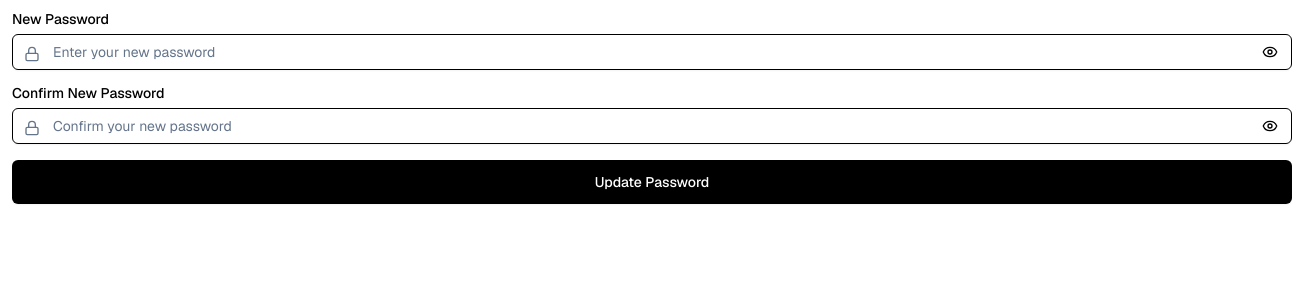
it: ResetPasswordForm › shows error when password update fails
Type "ValidPassword123" into the password field with placeholder "Enter your new password" at coordinates (652, 52), box [12, 34, 1292, 70]
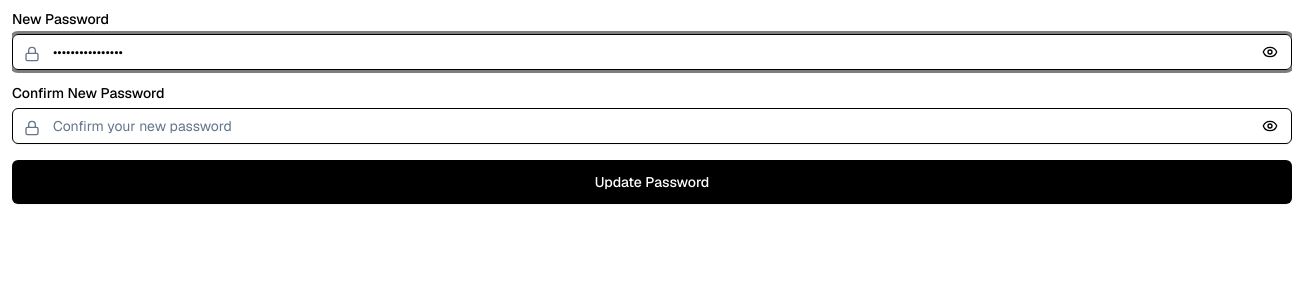
Type "ValidPassword123" into the password field with placeholder "Confirm your new password" at coordinates (652, 126), box [12, 108, 1292, 144]
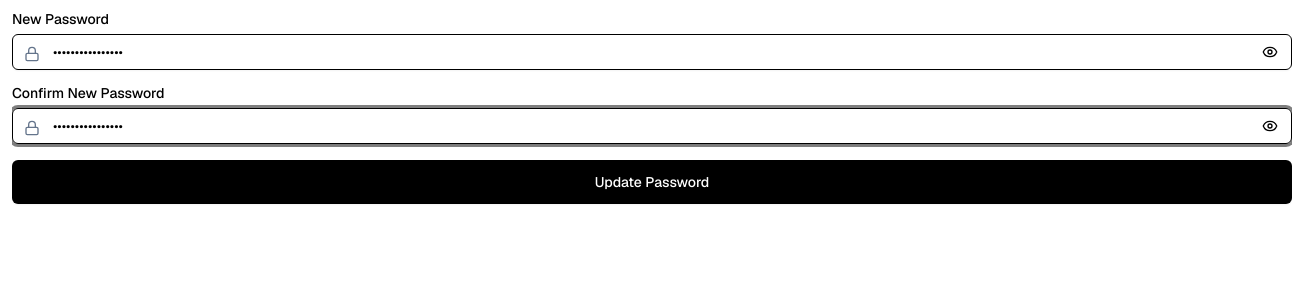
Click the button "Update Password" at coordinates (652, 182), box [12, 160, 1292, 204]
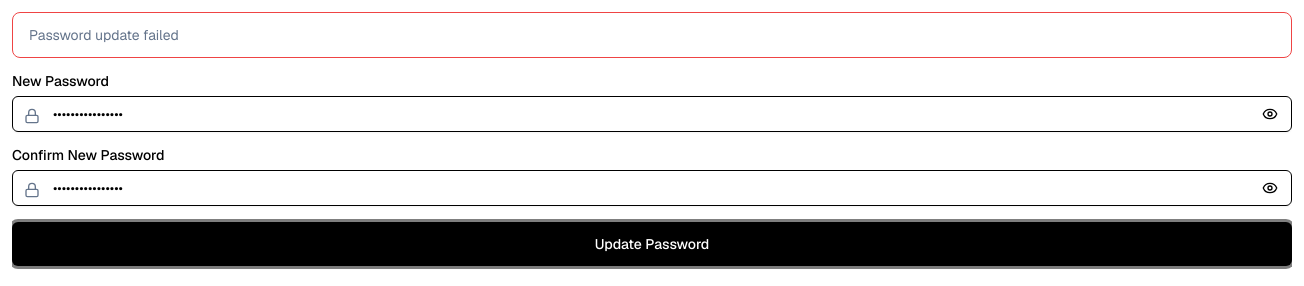
Expected: the text "Password update failed" is shown, [29, 26, 179, 44]
